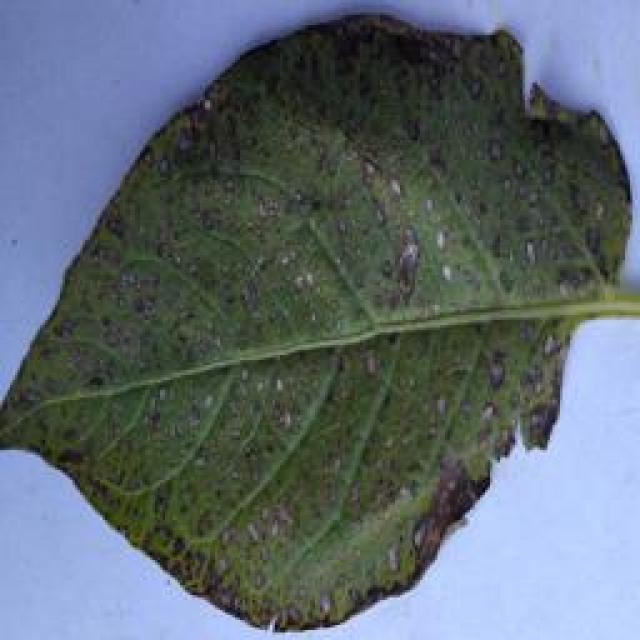Potato_Early_Blight: (12, 5, 637, 632)
